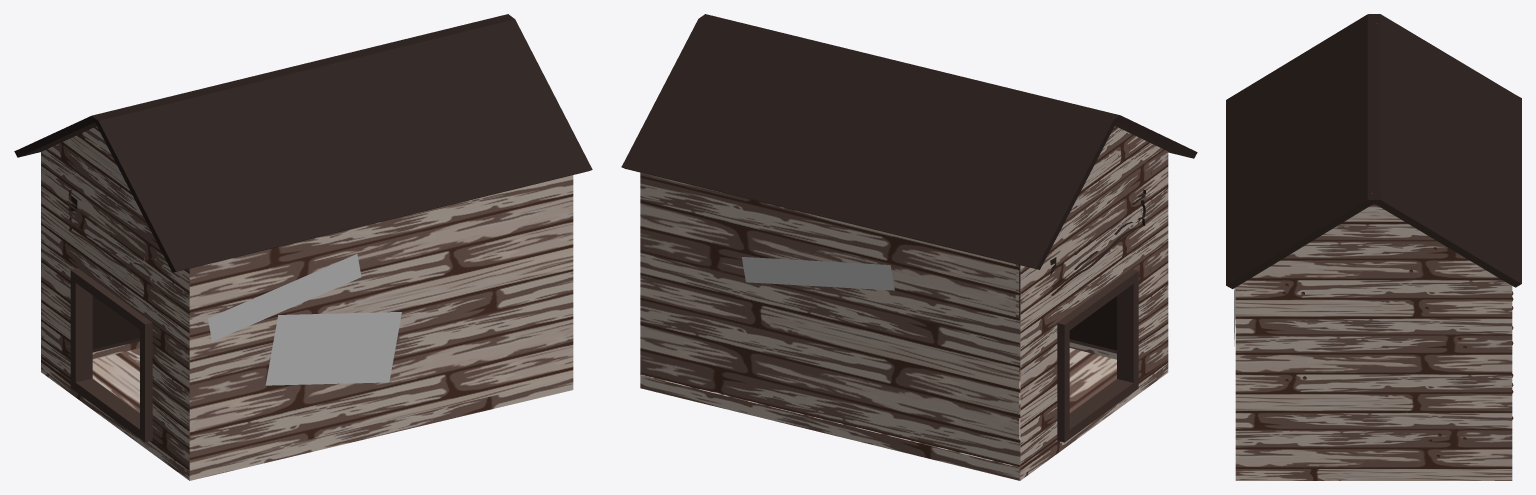
Rendered from dog house + textures.fbx.
The picture shows the model from 3 angles, left to right: view 1: azimuth 30°, elevation 25°; view 2: azimuth 150°, elevation 25°; view 3: azimuth 270°, elevation 25°; orthographic projection. The views are drawn at different scales.
Parts seen in each view (by area): view 1: house, Plane, Plane.001; view 2: house, Plane.002; view 3: house.
Boxes of the visible parts, x1,y1,x2,y2 form: house: [14, 14, 592, 480]; Plane: [265, 312, 401, 385]; Plane.001: [208, 254, 361, 341]; house: [621, 14, 1197, 480]; Plane.002: [742, 257, 894, 290]; house: [1226, 14, 1521, 480].
Bounding box in the file's own units: 82.21 × 59.38 × 55.3.
